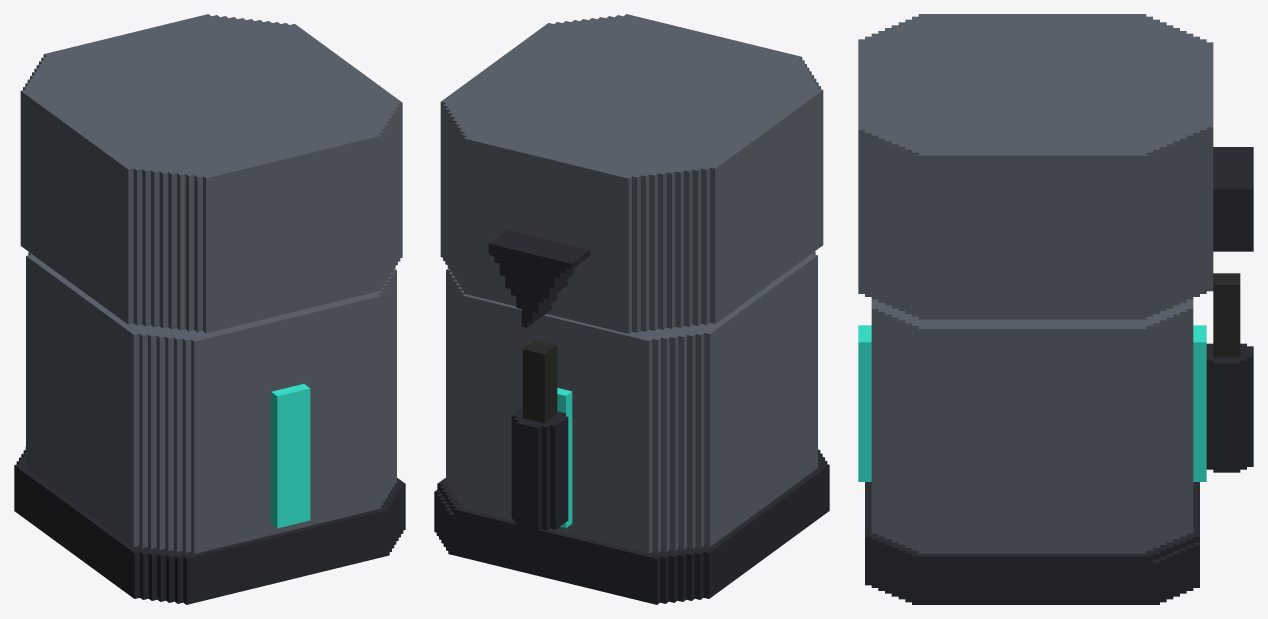
File: armor_power_worn_fore.glb
3 views of the same model, side by side, from view 1: azimuth 30°, elevation 25°; view 2: azimuth 150°, elevation 25°; view 3: azimuth 270°, elevation 25° (orthographic). The views are drawn at different scales.
Visible parts, largest first — view 1: armor_power_worn_fore:compound; view 2: armor_power_worn_fore:compound; view 3: armor_power_worn_fore:compound.
Boxes of the visible parts, x1,y1,x2,y2 form: armor_power_worn_fore:compound: (14,14,405,604); armor_power_worn_fore:compound: (434,14,829,604); armor_power_worn_fore:compound: (858,14,1253,604).
Bounding box in the file's own units: 0.2 × 0.296 × 0.236.
